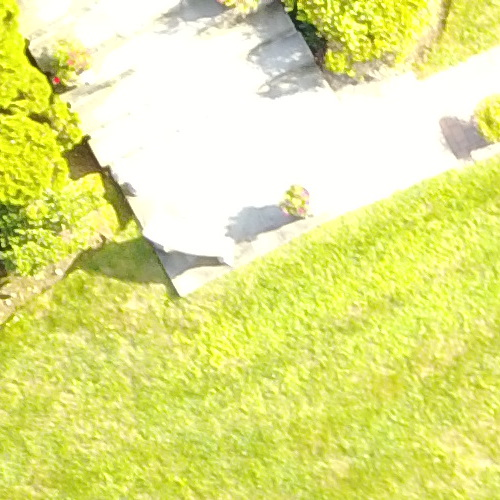flower pot: (35, 35, 101, 95), (276, 180, 316, 221)
